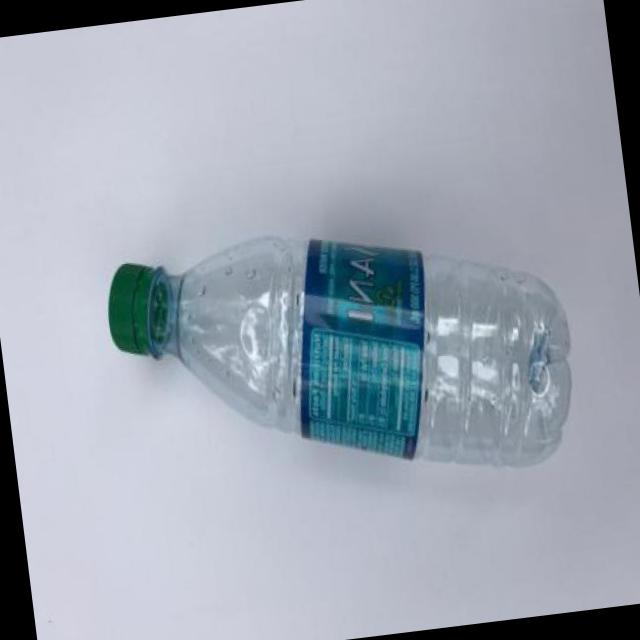plastic_bottle: (98, 198, 587, 516)
